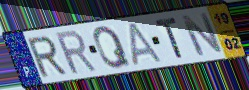A: (128, 21, 165, 67)
N: (178, 11, 226, 58)
Q: (92, 24, 134, 71)
R: (53, 28, 99, 77), (25, 34, 69, 79)
T: (154, 16, 186, 60)
